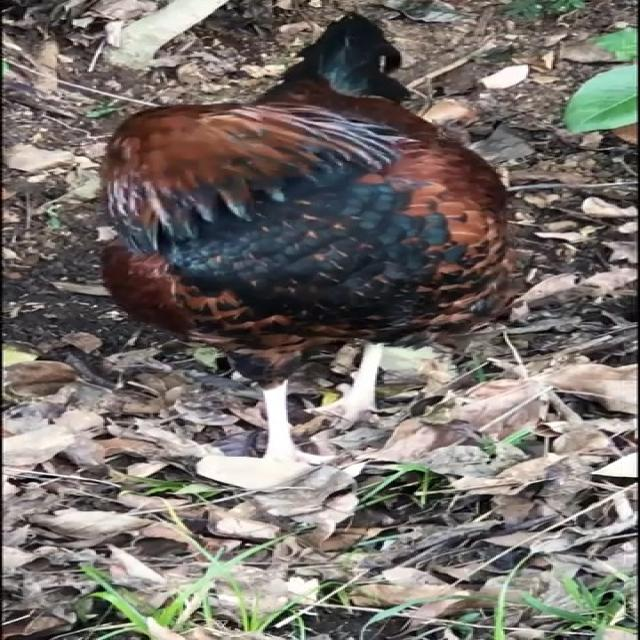self preening: (100, 20, 530, 451)
